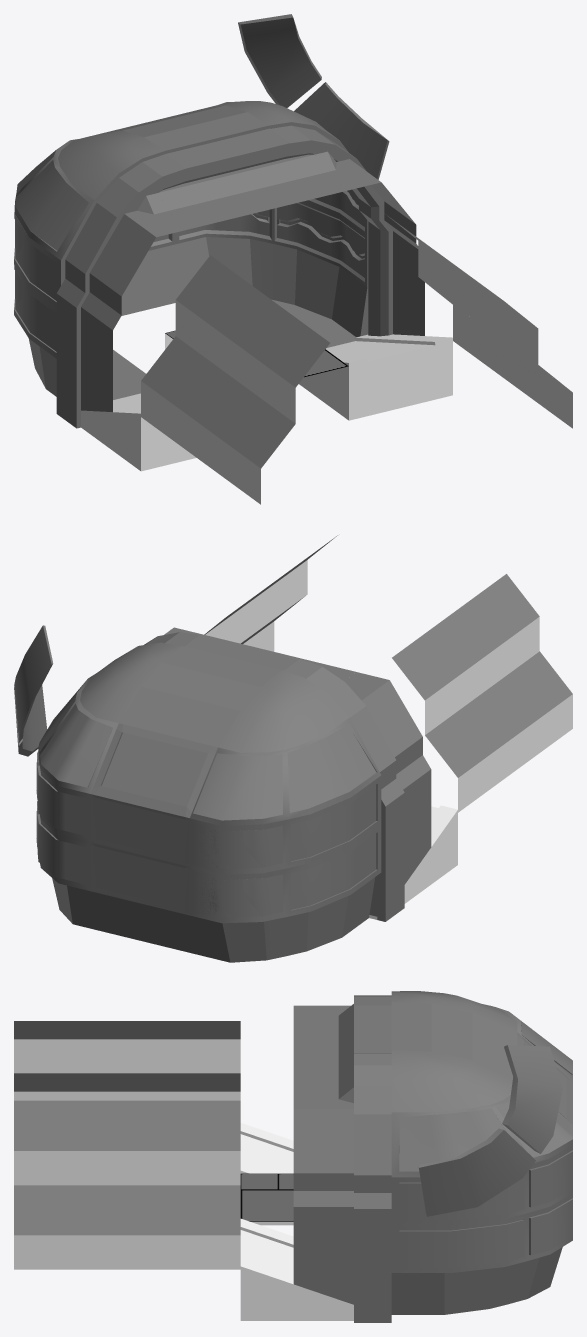
The model's file is BridgeFront..fbx.
3 views of the same model, one above another, from view 1: azimuth 30°, elevation 25°; view 2: azimuth 150°, elevation 25°; view 3: azimuth 270°, elevation 25° (orthographic). The views are drawn at different scales.
Parts seen in each view (by area): view 1: sm_Floor_Slope__2_, Wall_Beamdegree_003, sm_Wall_45__6_, sm_Wall_45__7_, Glass001, sm_Wall_Flat__33_, sm_Wall_Flat__31_, sm_Wall_Flat__22_, sm_Wall_Flat__30_, Shutters003, sm_Floor_Slope__3_, Domed_Roof (+42 smaller); view 2: Glass001_1, roof, sm_Wall_45__6_, sm_Wall_45__7_, Wall_Beamdegree_002, Domed_Roof, shutter_mid_45, Shutters002, sm_Wall_Flat__33_, sm_Wall_Flat__22_, sHUTTERS003, Domed_Roof001 (+39 smaller); view 3: sm_Wall_45__4_, sm_Wall_45__5_, Glass001, sm_Wall_Flat__30_, sm_Wall_Flat__31_, sm_Wall_Flat__33_, sm_Floor_Slope__2_, Wall_Beamdegree_003, Glass002, Domed_Roof001, roof, sHUTTERS003 (+34 smaller).
Part boxes in pixels (x1,y1,x2,y2): sm_Floor_Slope__2_: (299,334,452,420); Wall_Beamdegree_003: (176,237,368,337); sm_Wall_45__6_: (141,336,295,468); sm_Wall_45__7_: (176,255,329,387); Glass001: (238,14,389,179); sm_Wall_Flat__33_: (175,300,295,423); sm_Wall_Flat__31_: (418,241,538,364); sm_Wall_Flat__22_: (141,381,260,504); sm_Wall_Flat__30_: (453,305,572,428); Shutters003: (179,203,364,277); sm_Floor_Slope__3_: (81,393,196,471); Domed_Roof: (58,130,164,202); Glass001_1: (193,723,375,820); roof: (119,646,280,747); sm_Wall_45__6_: (425,651,572,777); sm_Wall_45__7_: (392,574,539,700); Wall_Beamdegree_002: (194,876,377,962); Domed_Roof: (218,670,349,752); shutter_mid_45: (102,732,207,806); Shutters002: (199,833,376,917); sm_Wall_Flat__33_: (425,617,539,734); sm_Wall_Flat__22_: (458,694,572,812); sHUTTERS003: (39,679,112,787); Domed_Roof001: (80,642,181,722); sm_Wall_45__4_: (14,1185,240,1235); sm_Wall_45__5_: (14,1100,240,1150); Glass001: (418,1045,562,1216); sm_Wall_Flat__30_: (14,1235,240,1269); sm_Wall_Flat__31_: (14,1151,240,1185); sm_Wall_Flat__33_: (14,1039,240,1073); sm_Floor_Slope__2_: (240,1218,353,1320); Wall_Beamdegree_003: (391,1247,562,1314); Glass002: (399,1198,572,1268); Domed_Roof001: (391,1049,512,1112); roof: (391,1002,517,1077); sHUTTERS003: (399,1101,572,1170).
Bounding box in the file's own units: 8017 × 6235 × 11840.
5 materials, 2 textured.
